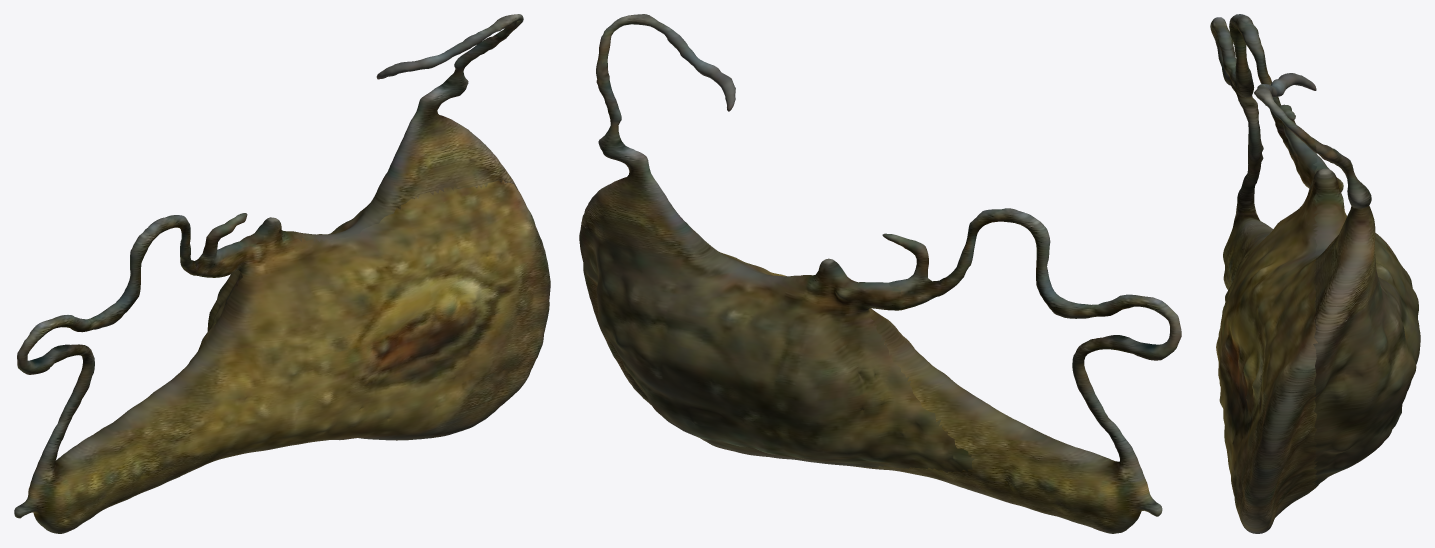
The model's file is kfl-2159.glb.
The picture shows the model from 3 angles, left to right: view 1: azimuth 30°, elevation 25°; view 2: azimuth 150°, elevation 25°; view 3: azimuth 270°, elevation 25°; orthographic projection. The views are drawn at different scales.
Parts seen in each view (by area): view 1: geometry_0; view 2: geometry_0; view 3: geometry_0.
Boxes of the visible parts, x1,y1,x2,y2 form: geometry_0: (14, 14, 550, 533); geometry_0: (579, 14, 1181, 533); geometry_0: (1210, 14, 1420, 533).
Bounding box in the file's own units: 0.9901 × 0.6828 × 0.2777.
Materials: 1 (1 with a texture image).
